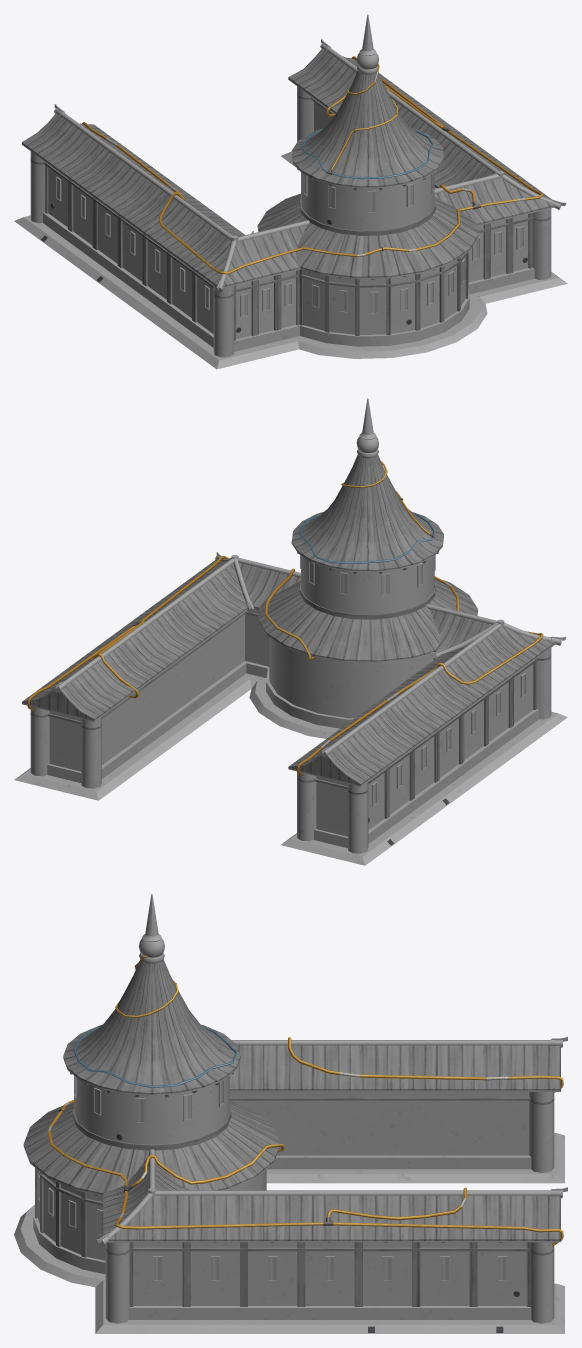
The model's file is SM_ENV_LKNVLD_Building_B.FBX.
The picture shows the model from 3 angles, top to bottom: view 1: azimuth 30°, elevation 25°; view 2: azimuth 150°, elevation 25°; view 3: azimuth 270°, elevation 25°; orthographic projection. The views are drawn at different scales.
Visible parts, largest first — view 1: SM_ENV_LKNVLD_Building_B; view 2: SM_ENV_LKNVLD_Building_B; view 3: SM_ENV_LKNVLD_Building_B.
Part boxes in pixels (x1,y1,x2,y2): SM_ENV_LKNVLD_Building_B: [14, 14, 567, 369]; SM_ENV_LKNVLD_Building_B: [14, 398, 567, 865]; SM_ENV_LKNVLD_Building_B: [14, 894, 567, 1333].
Size of the model in its own units: 2900 by 2320 by 3421.
